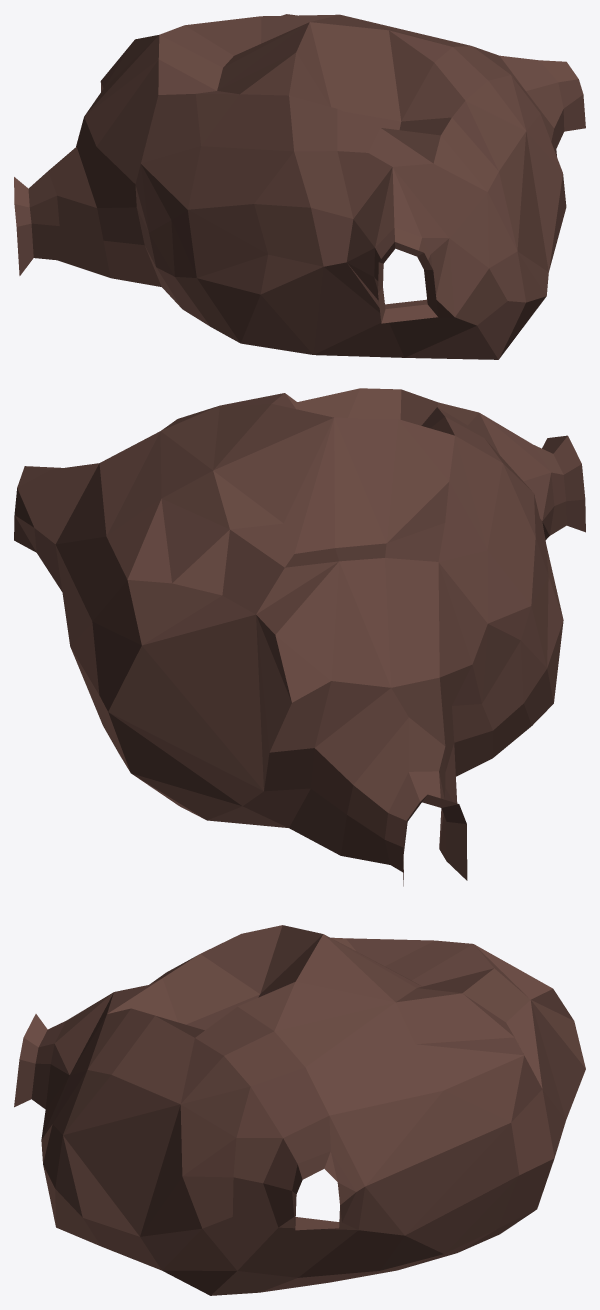
File: Dome-3exits-06.fbx
3 views of the same model, one above another, from view 1: azimuth 30°, elevation 25°; view 2: azimuth 150°, elevation 25°; view 3: azimuth 270°, elevation 25° (orthographic). The views are drawn at different scales.
Visible parts, largest first — view 1: Dome-3exits-06; view 2: Dome-3exits-06; view 3: Dome-3exits-06.
Part boxes in pixels (bbox=[...]): Dome-3exits-06: bbox=[14, 14, 585, 359]; Dome-3exits-06: bbox=[14, 388, 585, 886]; Dome-3exits-06: bbox=[14, 925, 585, 1295].
Size of the model in its own units: 2309 by 2225 by 1257.
